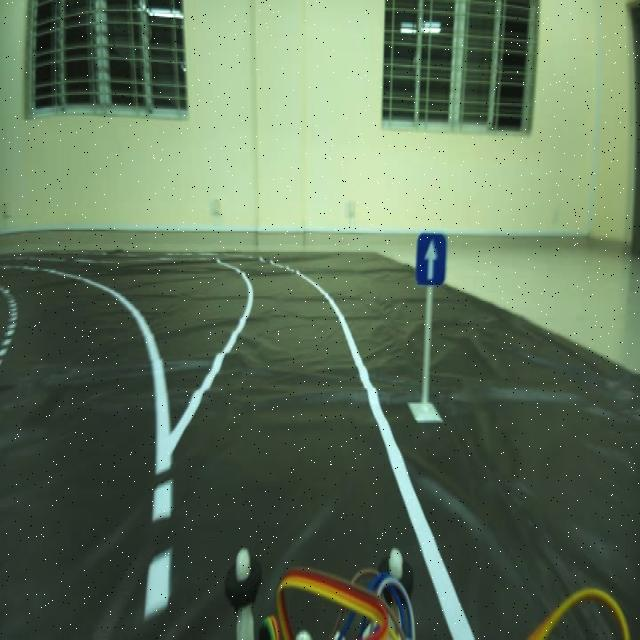onewayroad: (411, 226, 451, 300)
